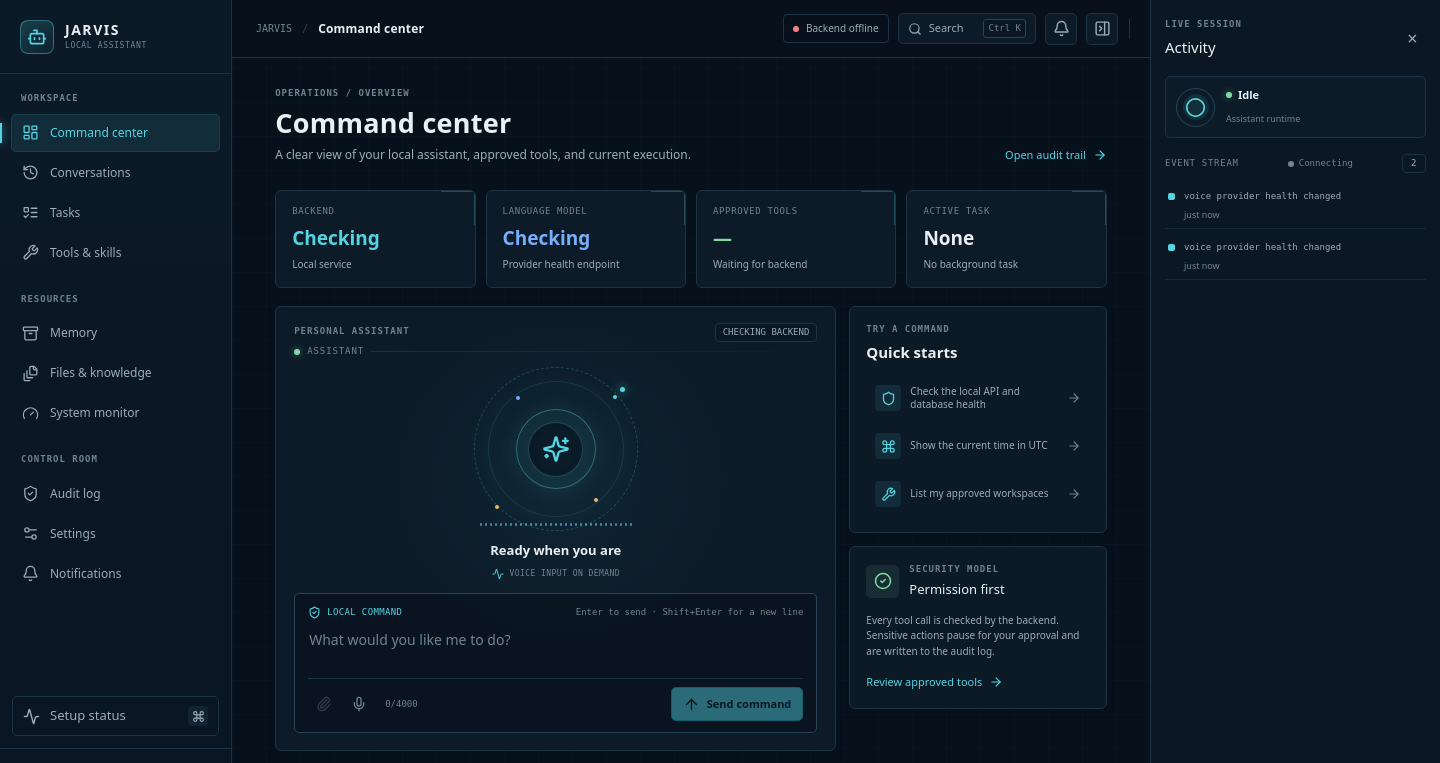
Test case: Phase 5 application shell and routes › opens the command palette by keyboard and navigates with arrow keys
The image size is (1440, 763).
Press k
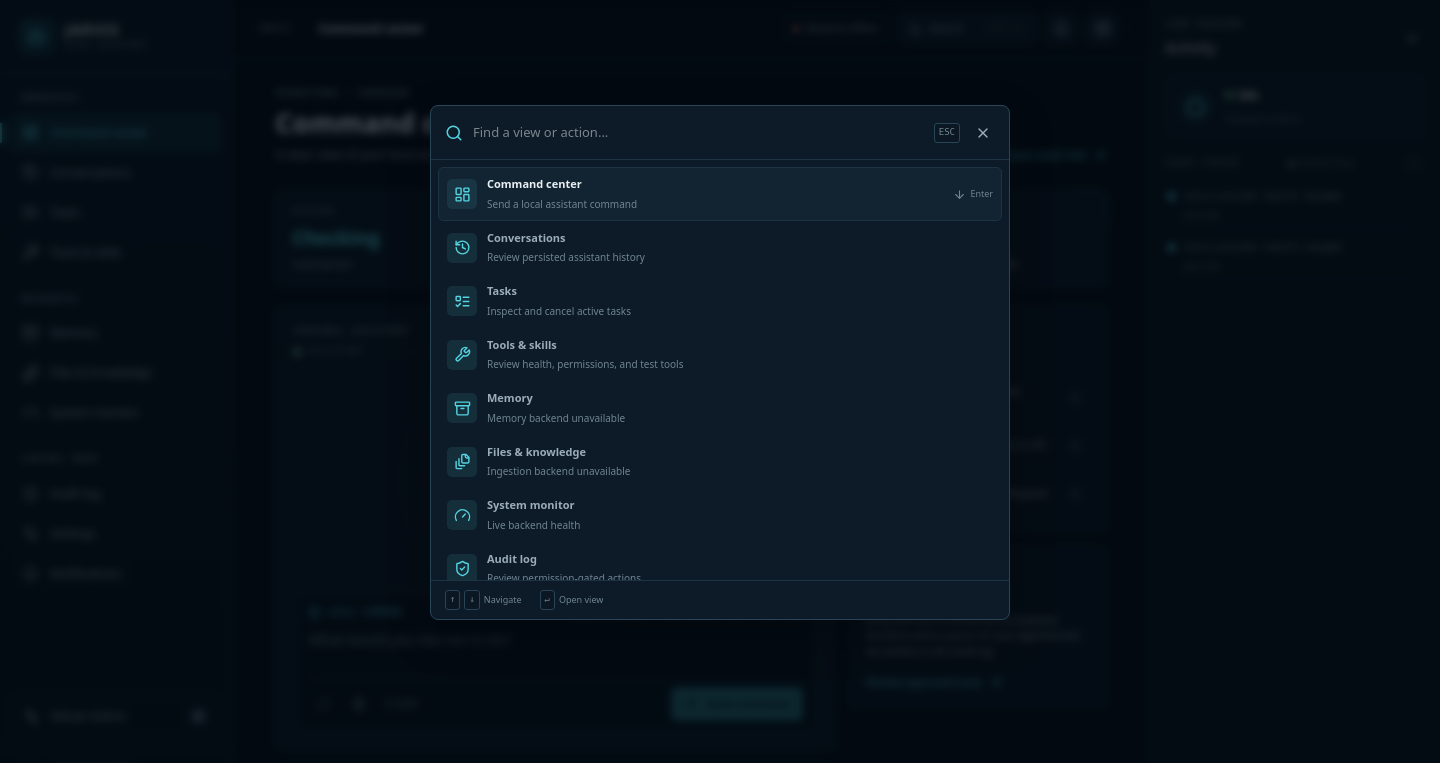
Check: the dialog named "Command palette" is shown, box [430,105,1010,620]
Type "Audit log" into the field named "Search commands".
click(698, 133); type("Audit log")  # box [473,123,924,142]
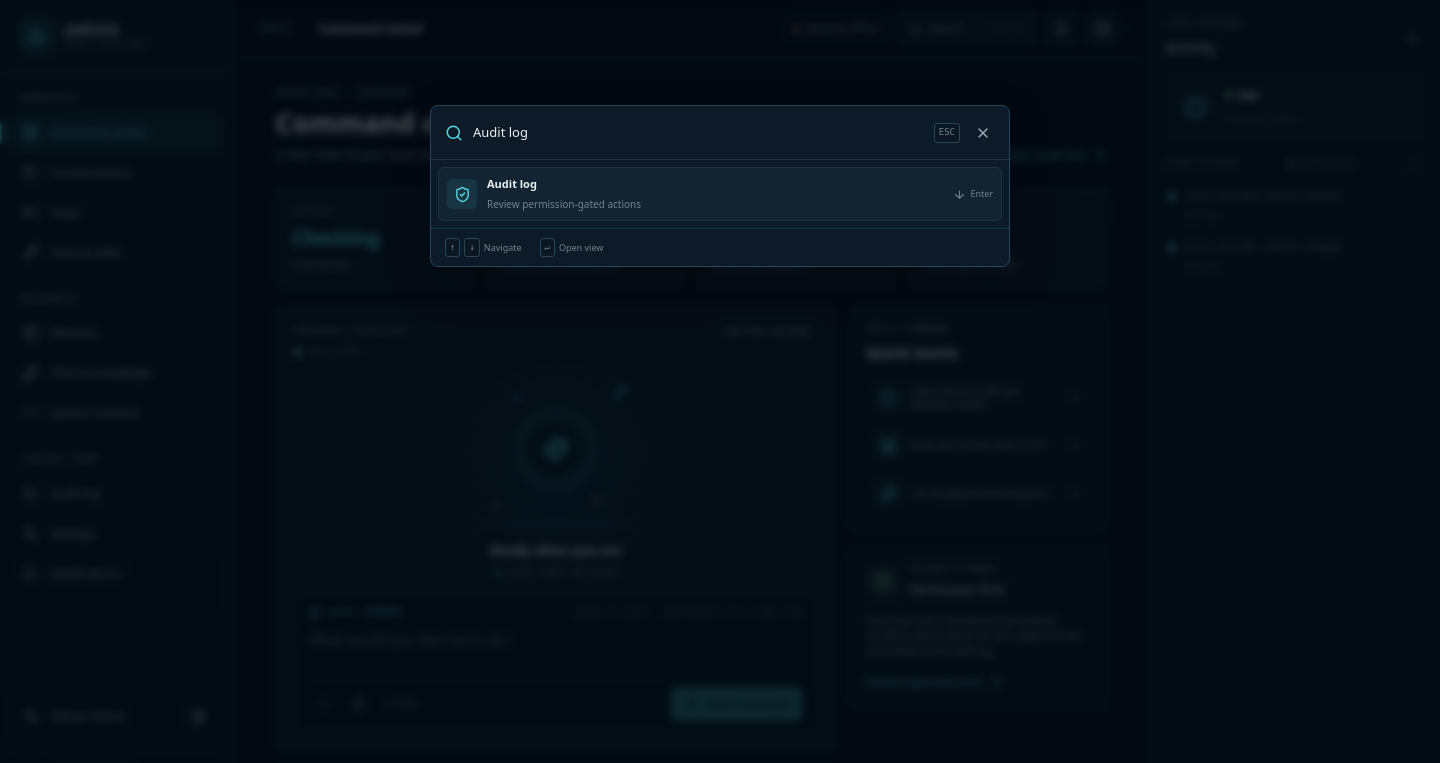
Press Enter in the dialog named "Command palette", box [430,105,1010,267]
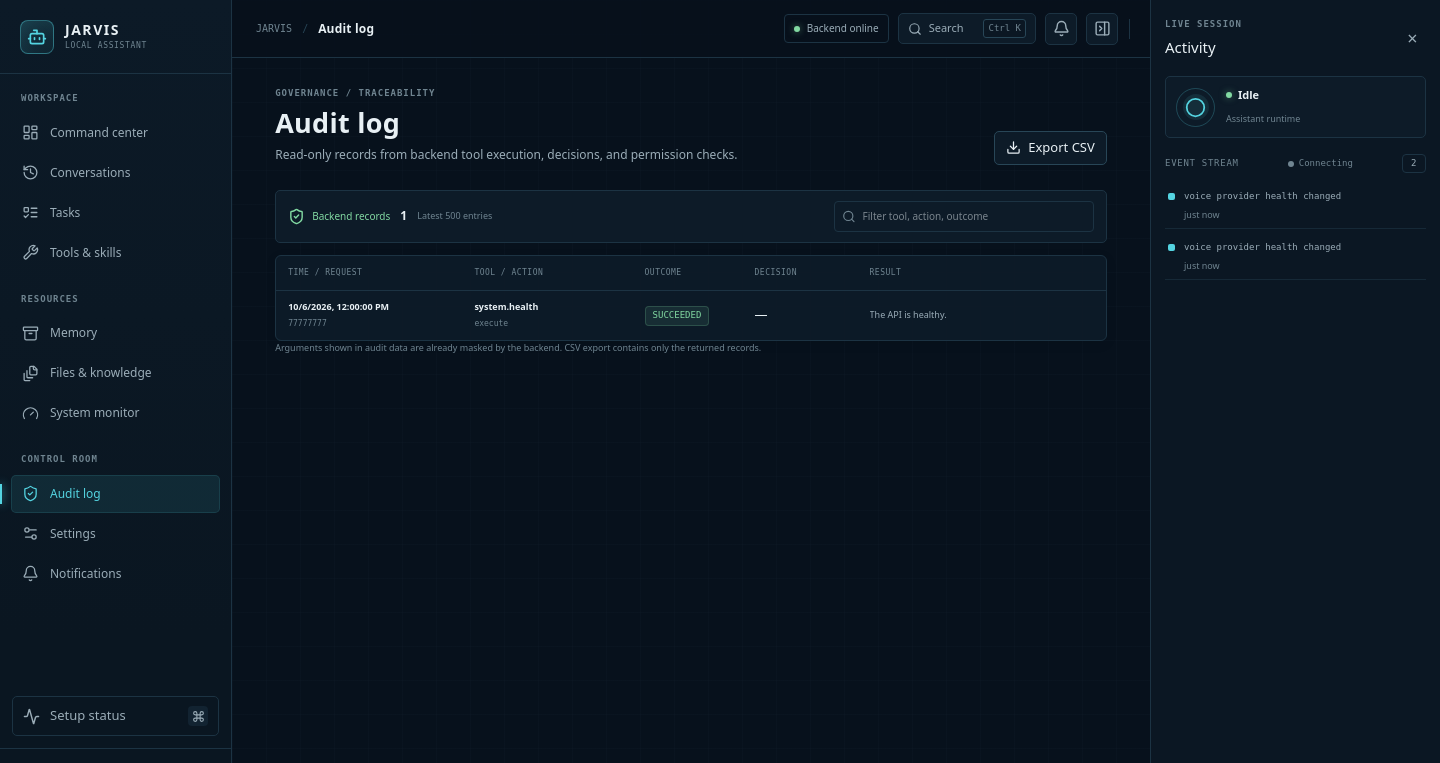
Check: the heading "Audit log" is shown, box [275,104,400,140]
